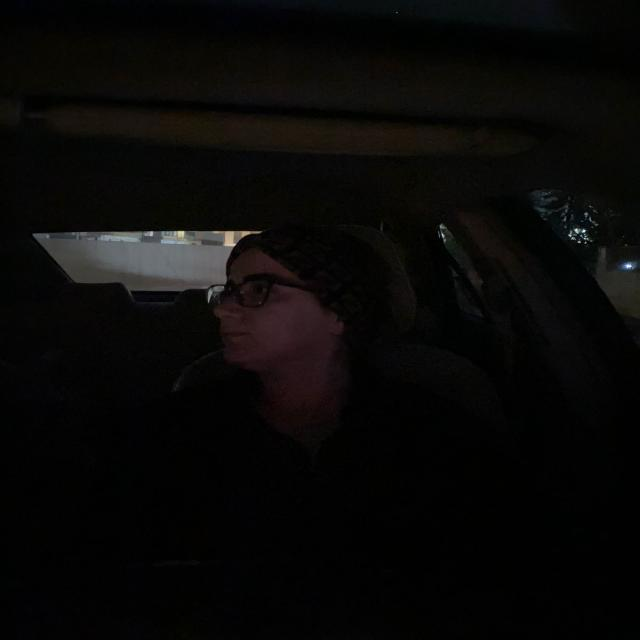LeftRight: (201, 222, 398, 394)
